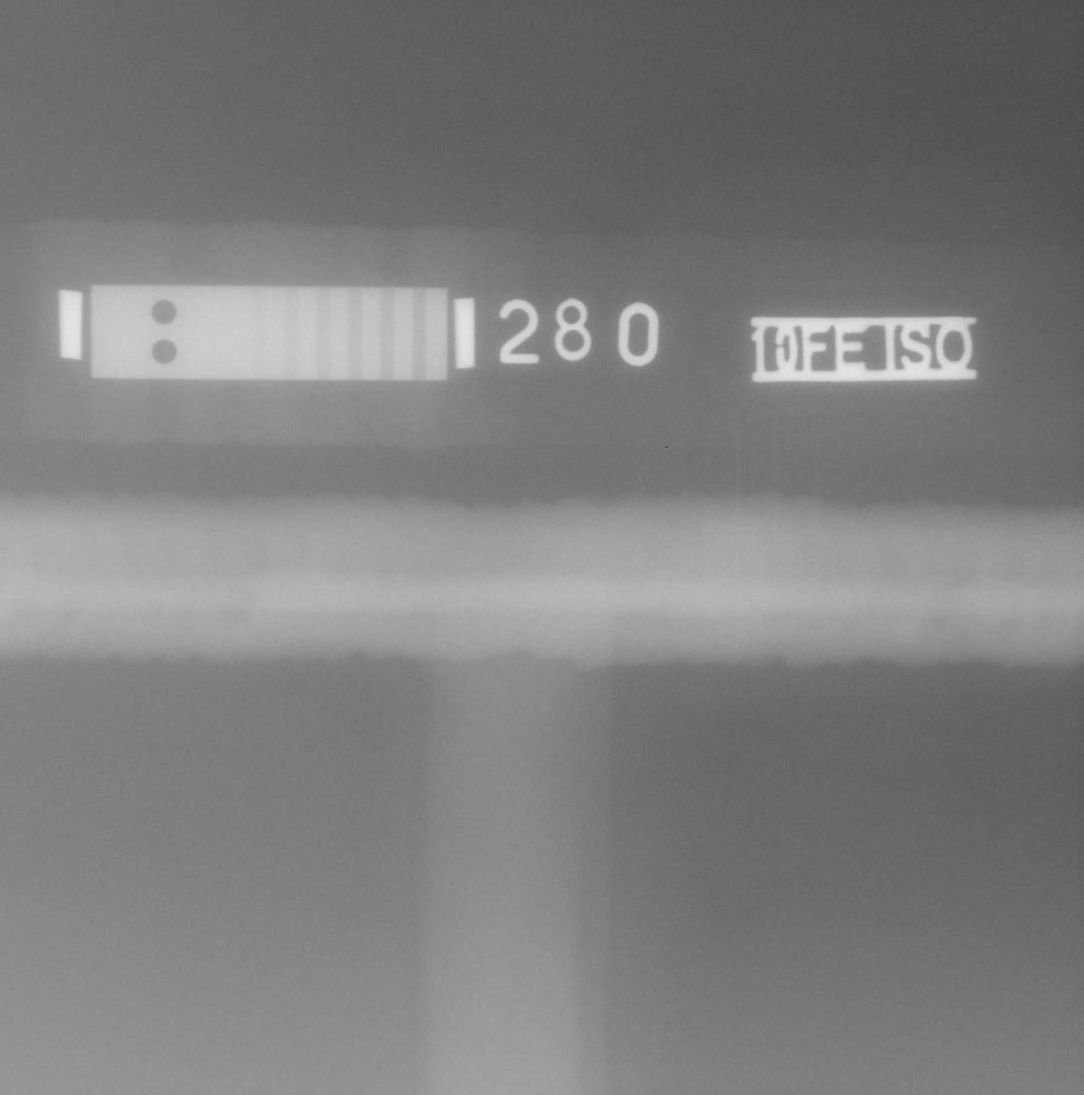Reference Standard 2: (90, 285, 447, 382)
